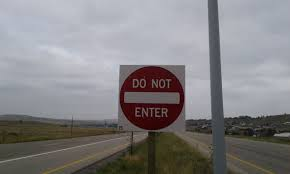doNotEnter: (119, 64, 186, 134)
